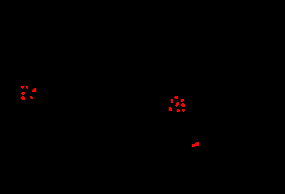Target: (192, 142, 199, 147), (175, 102, 179, 107), (32, 88, 36, 92), (21, 96, 25, 100), (181, 103, 185, 107), (21, 92, 25, 95), (174, 96, 178, 99), (169, 107, 172, 111), (21, 86, 24, 89), (30, 96, 33, 99), (181, 99, 184, 102), (177, 109, 180, 112), (182, 109, 185, 112), (171, 99, 173, 103), (26, 86, 28, 89)
